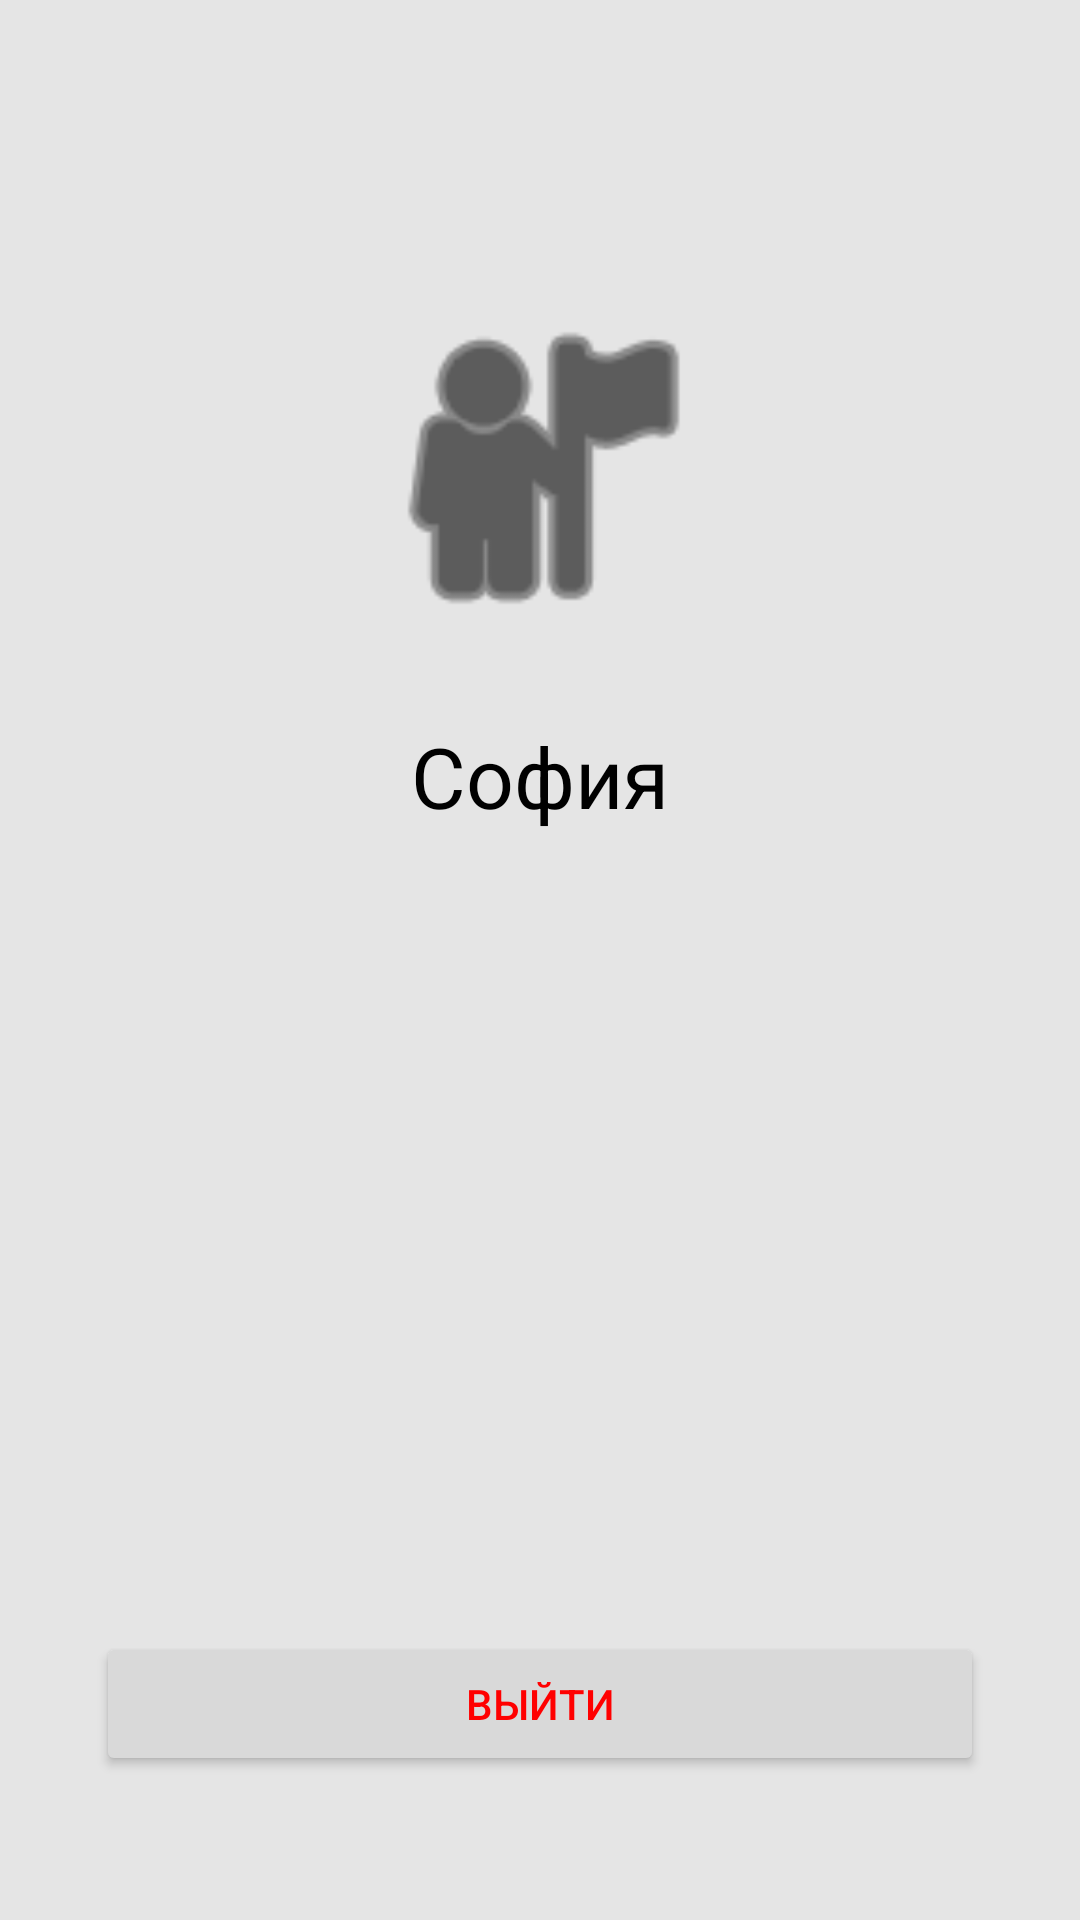

Where to tap for icons on this 1080×1920 app screen, as (x,y):
myplaces: (543,468)
